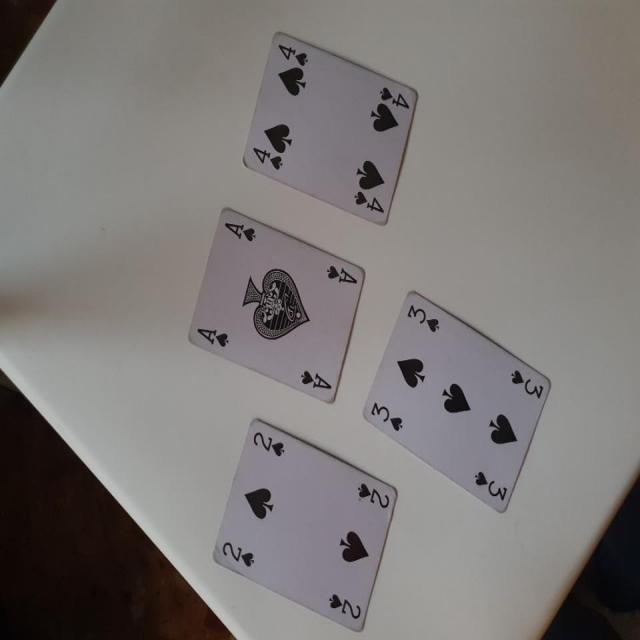2 Spades: (211, 417, 395, 631)
3 Spades: (365, 286, 548, 522)
4 Spades: (240, 38, 426, 230)
A Spades: (185, 207, 367, 409)
